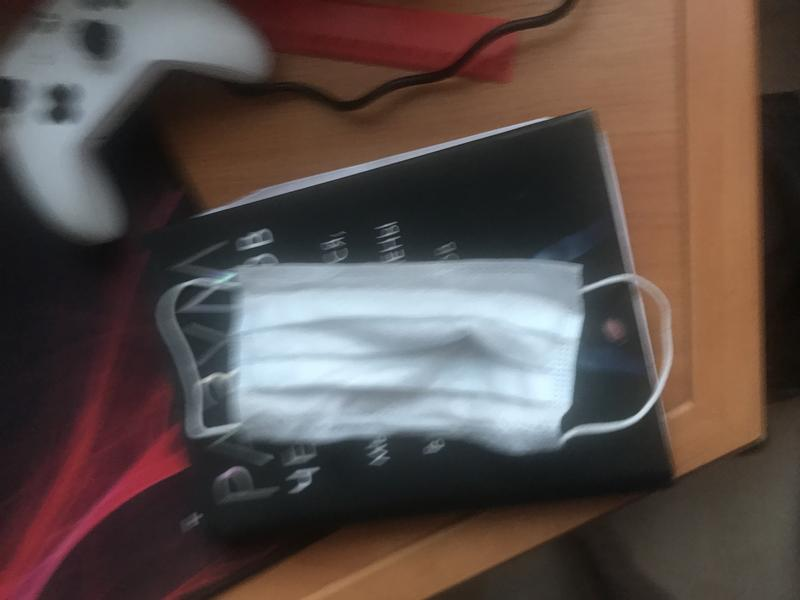medical_mask: (154, 261, 677, 448)
